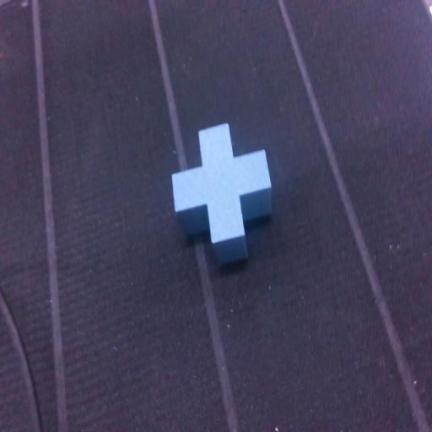cross: (173, 125, 271, 263)
